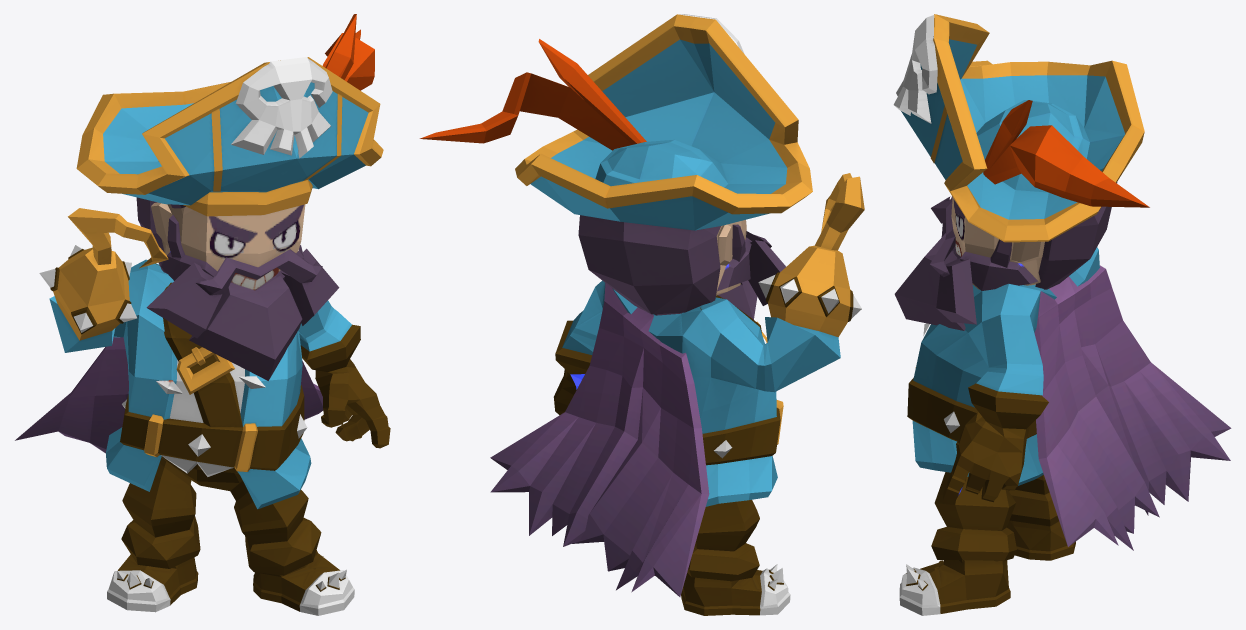
The model's file is SK_Lowpoly_Male_002.glb.
3 renders of one model, left to right at view 1: azimuth 30°, elevation 25°; view 2: azimuth 150°, elevation 25°; view 3: azimuth 270°, elevation 25°, orthographic. The views are drawn at different scales.
Parts seen in each view (by area): view 1: SK_Lowpoly_Male_002; view 2: SK_Lowpoly_Male_002; view 3: SK_Lowpoly_Male_002.
Boxes of the visible parts, bbox=[...] form: SK_Lowpoly_Male_002: bbox=[15, 14, 390, 615]; SK_Lowpoly_Male_002: bbox=[419, 14, 864, 615]; SK_Lowpoly_Male_002: bbox=[893, 14, 1231, 615].
Size of the model in its own units: 1.23 by 1.72 by 0.9384.
1 material, 1 textured.
